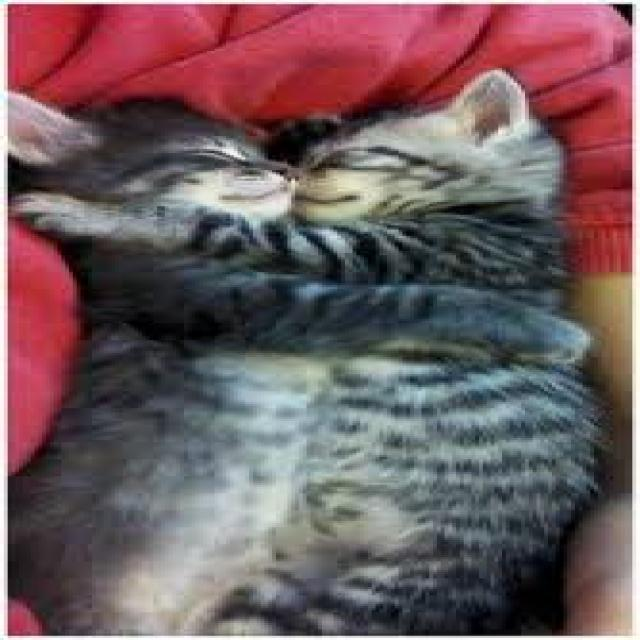-: (4, 81, 322, 640)
Cat: (243, 62, 623, 640)
